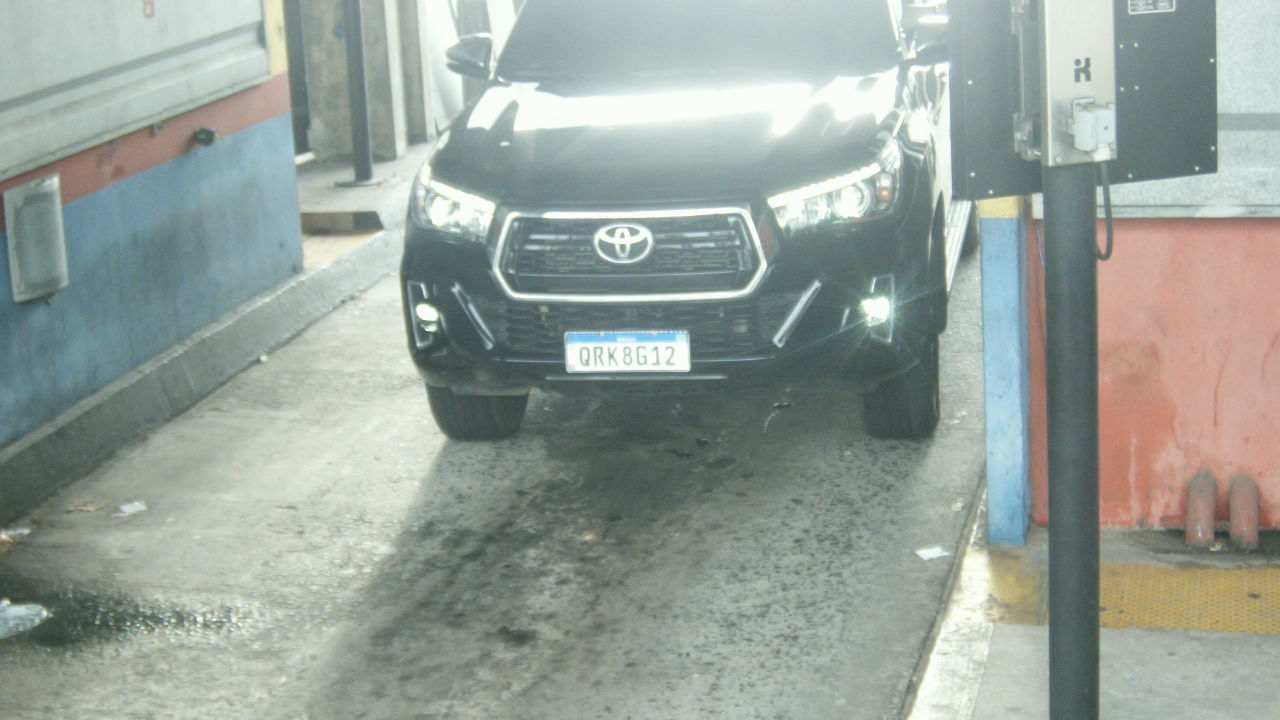placa: (564, 329, 692, 373)
